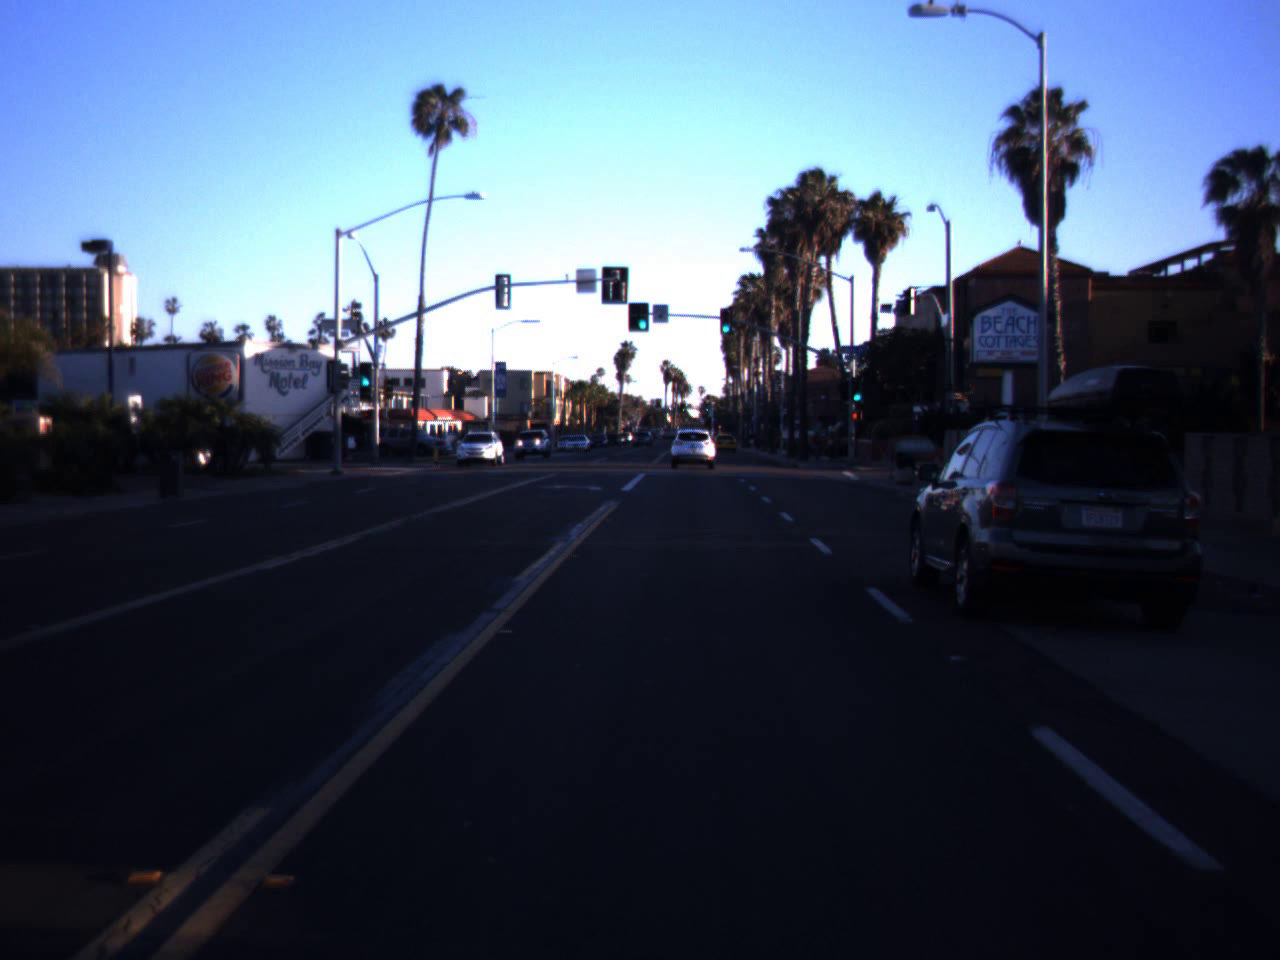go: (848, 377, 866, 402), (635, 301, 650, 331), (358, 362, 373, 387), (720, 309, 732, 334)
